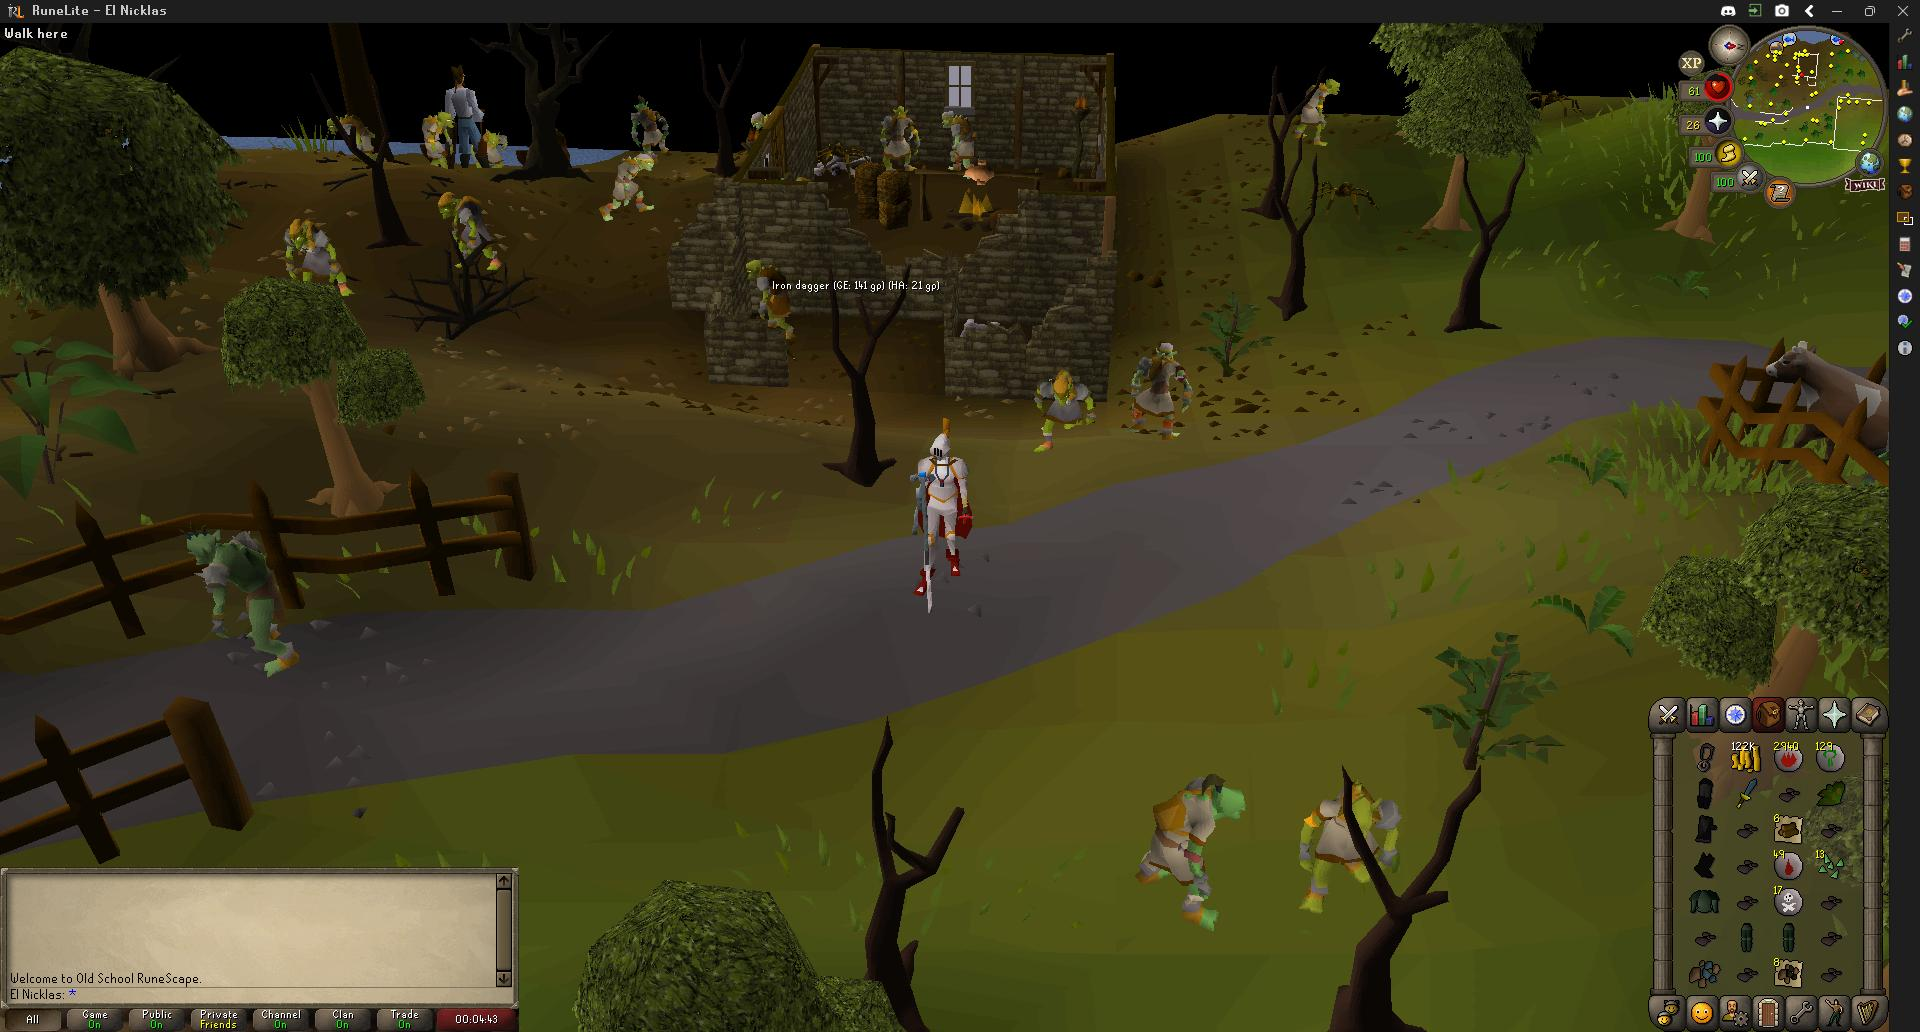Player: (913, 421, 975, 595)
goblin: (1143, 774, 1249, 926), (1301, 776, 1403, 912), (188, 528, 297, 655), (1121, 340, 1187, 440), (438, 189, 506, 276), (284, 218, 355, 296), (746, 257, 797, 353), (1033, 364, 1090, 446), (600, 148, 657, 220), (953, 155, 999, 233), (879, 104, 921, 173), (1303, 77, 1340, 147), (942, 109, 977, 174), (633, 96, 670, 155), (336, 113, 380, 161), (422, 112, 456, 169), (746, 112, 775, 171), (480, 128, 513, 168)
